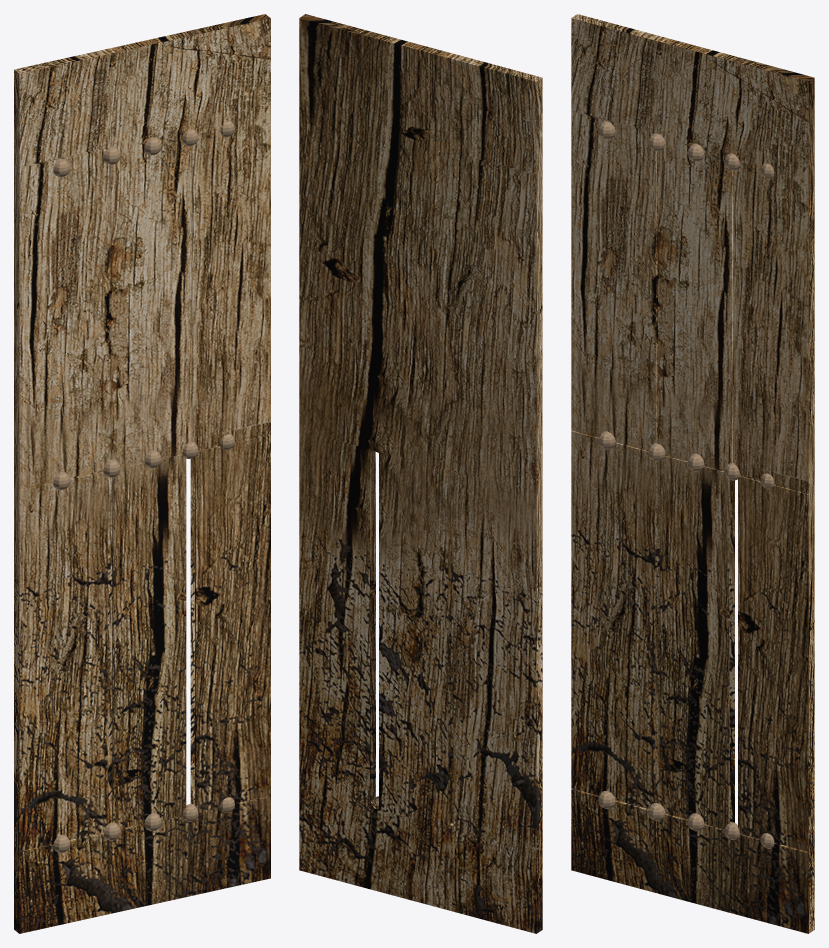
The model's file is PuertaDerecha.obj.
3 renders of one model, left to right at view 1: azimuth 30°, elevation 25°; view 2: azimuth 150°, elevation 25°; view 3: azimuth 330°, elevation 25°, orthographic.
Visible parts, largest first — view 1: pCube4_Untitled.062; view 2: pCube4_Untitled.062; view 3: pCube4_Untitled.062.
Boxes of the visible parts, bbox=[...] form: pCube4_Untitled.062: bbox=[14, 14, 270, 933]; pCube4_Untitled.062: bbox=[299, 14, 542, 933]; pCube4_Untitled.062: bbox=[571, 14, 814, 933].
Bounding box in the file's own units: 0.1856 × 0.6204 × 0.0179.
Materials: 1 (1 with a texture image).
